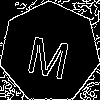M: (25, 27, 74, 80)
